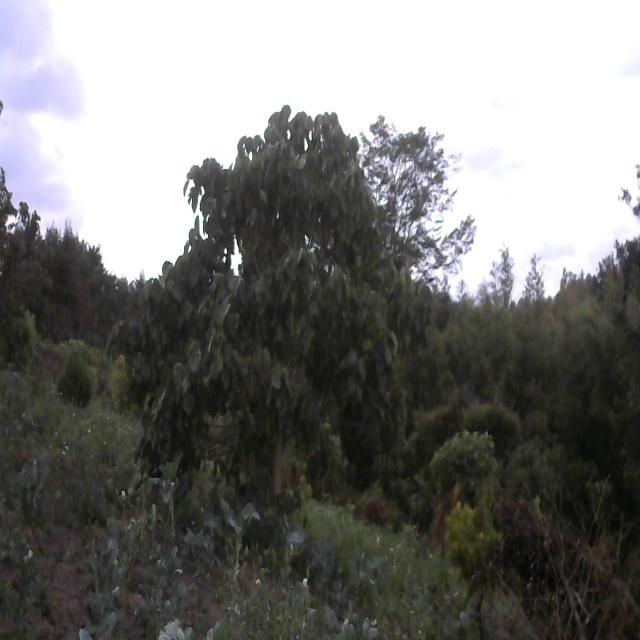other: (121, 75, 401, 580)
